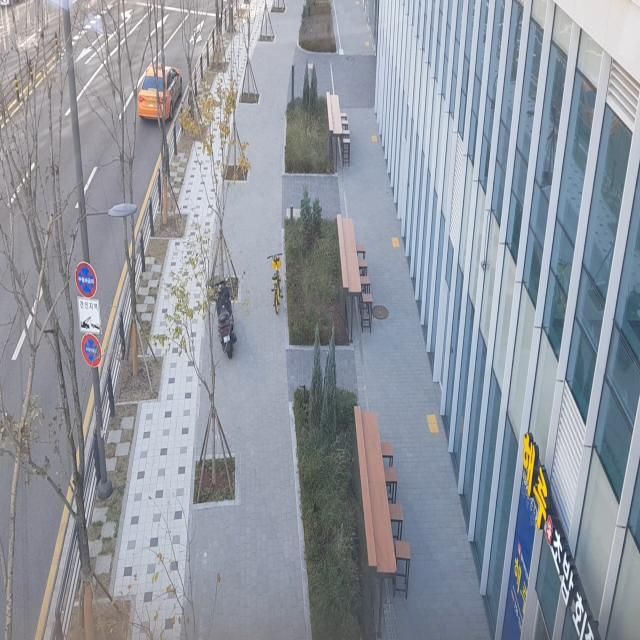Car: (131, 51, 187, 138)
